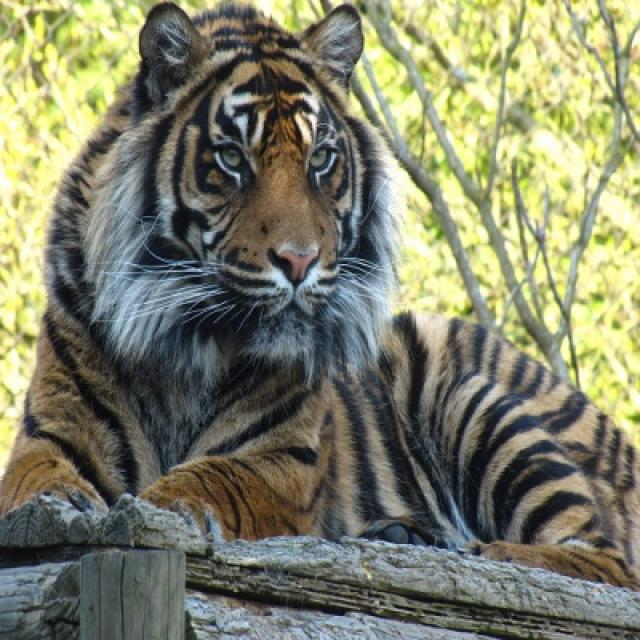Tiger: (0, 5, 638, 585)
